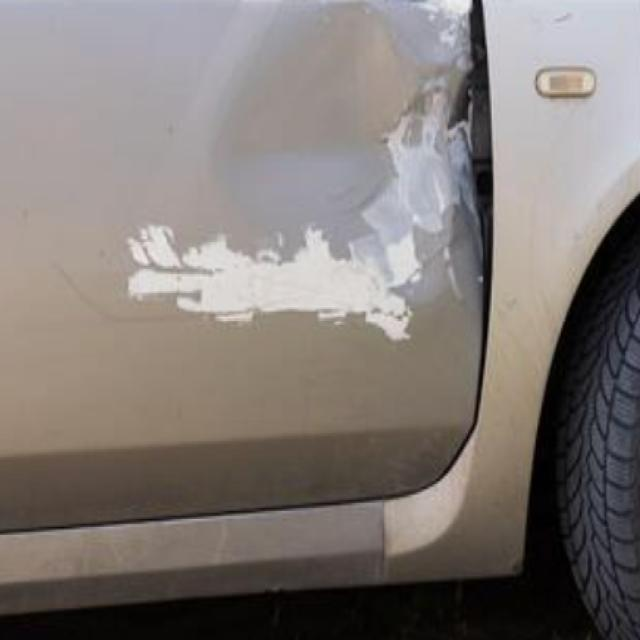scratch: (101, 222, 487, 359), (365, 85, 488, 222)
